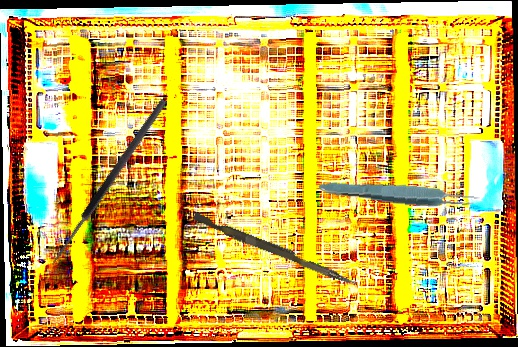Hook Surgical: (48, 97, 177, 274)
Pusher: (191, 212, 360, 287)
Tissue Forceps: (318, 177, 481, 212)
